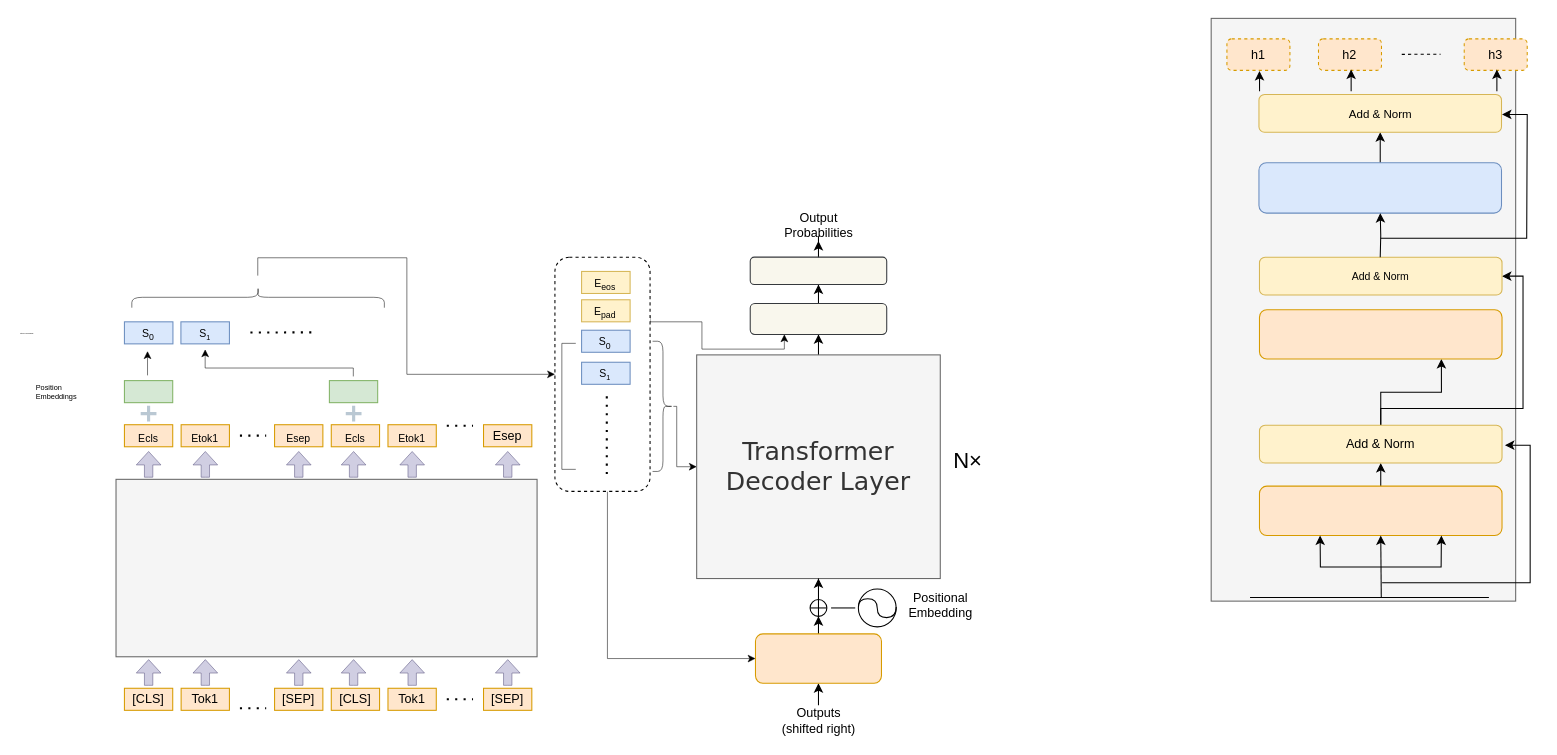
Image size: 1557x755. Some labels were removed from this diagram. The centre of each missing label's shape, as x and y in pixels:
"Bert Model" belongs at point (326, 567).
"E 0" belongs at point (148, 391).
"E 1" belongs at point (353, 391).
"Feed Forward" belongs at point (1380, 187).
"Half-Dynamic Embedding" belongs at point (817, 658).
"Masked Multi-Head Attention" belongs at point (1380, 510).
"Match Layer" belongs at point (818, 318).
"Multi-Head Attention" belongs at point (1380, 334).
"SoftMax" belongs at point (818, 270).
